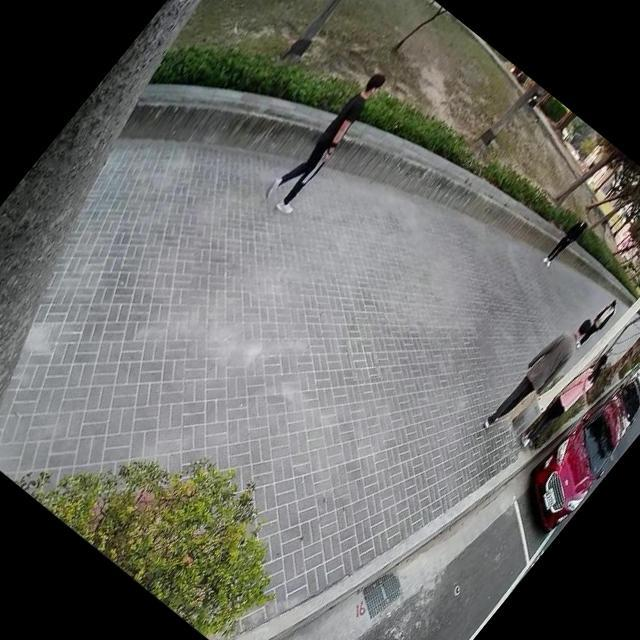person: (255, 55, 401, 222), (476, 301, 600, 445), (515, 341, 617, 458), (539, 210, 593, 272), (572, 292, 625, 353)
